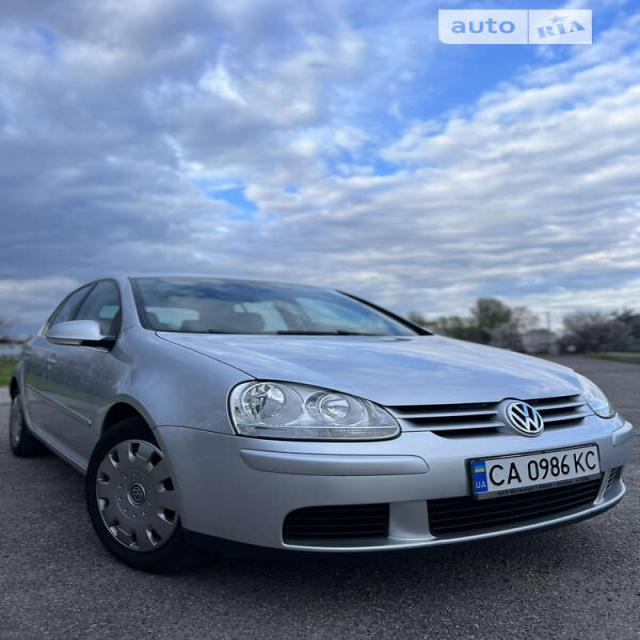plate: (464, 441, 612, 501)
